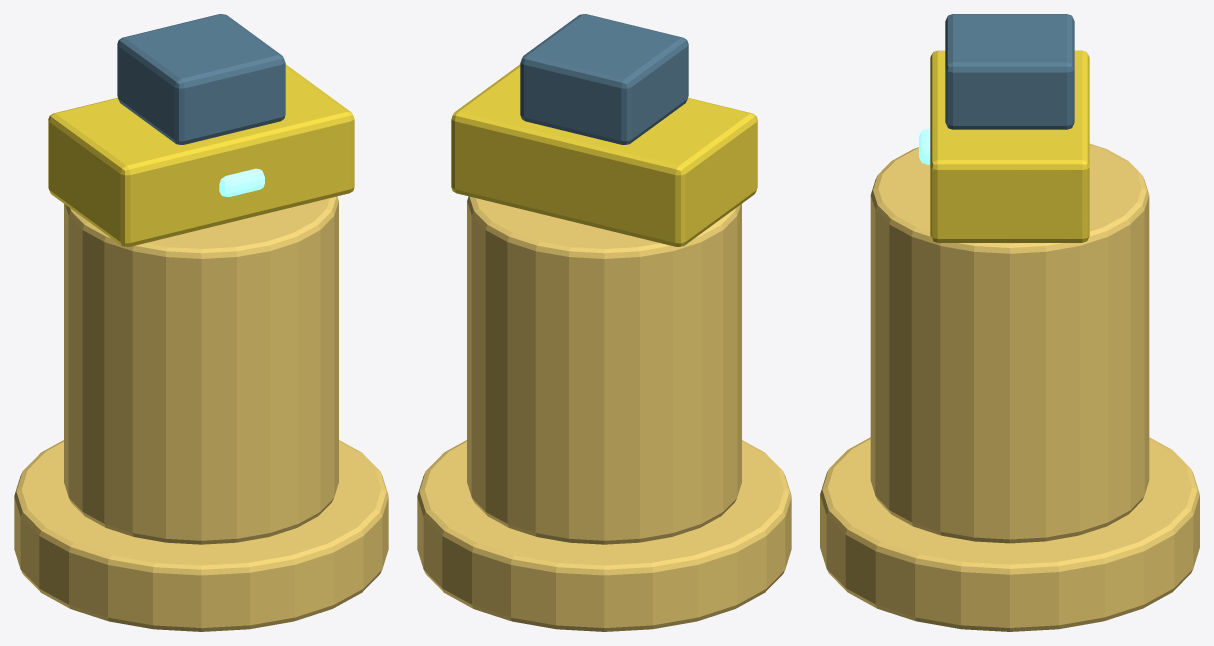
The model's file is taxi-token.fbx.
3 views of the same model, side by side, from view 1: azimuth 30°, elevation 25°; view 2: azimuth 150°, elevation 25°; view 3: azimuth 270°, elevation 25° (orthographic).
Parts seen in each view (by area): view 1: taxi-token; view 2: taxi-token; view 3: taxi-token.
Part boxes in pixels (x1,y1,x2,y2): taxi-token: [14, 14, 388, 631]; taxi-token: [417, 14, 791, 631]; taxi-token: [820, 14, 1199, 631].
Bounding box in the file's own units: 6 × 9 × 6.
